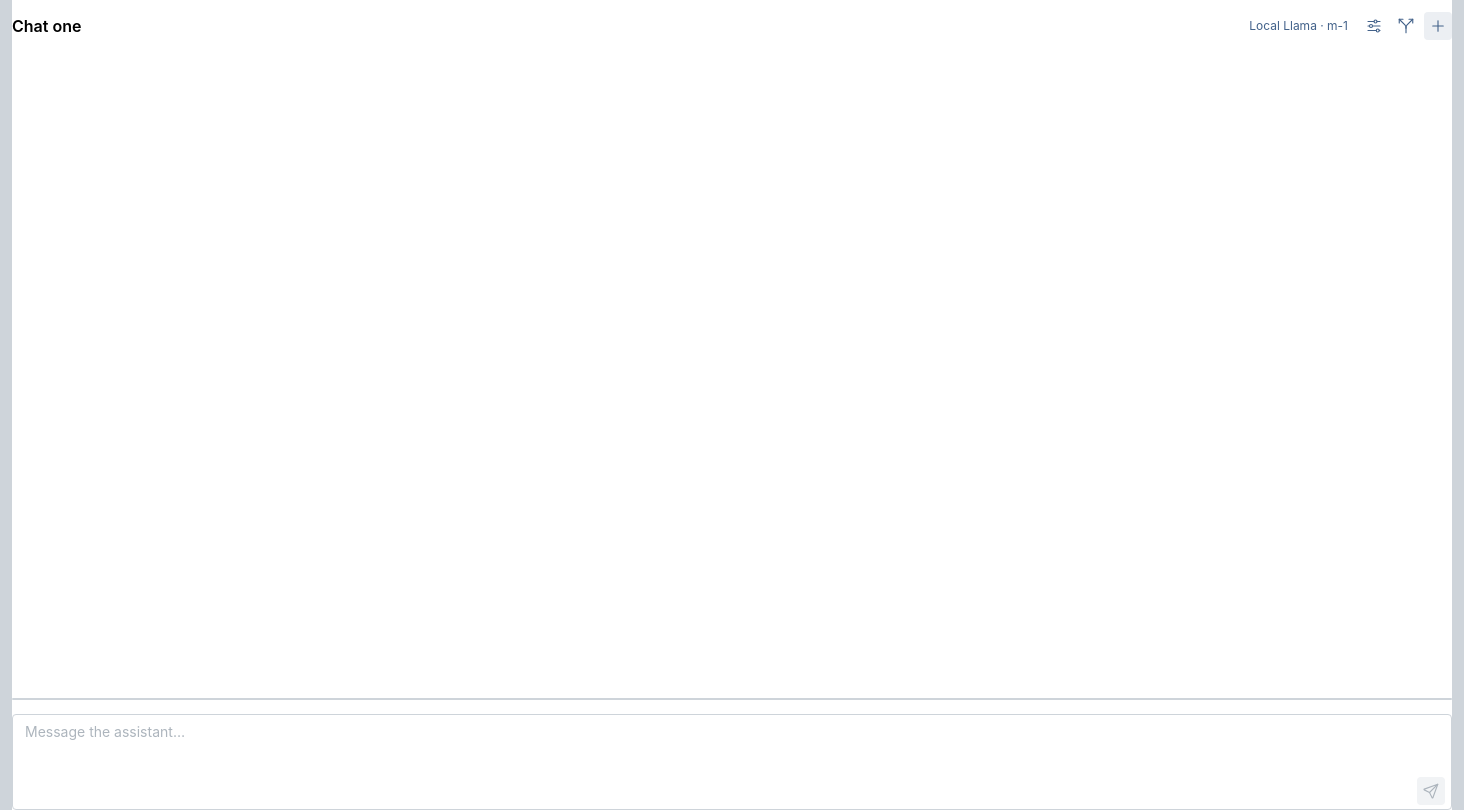
Test: a failed pick reverts the header and tells the author (009 DoD-7) › 009 DoD-7: when the update rejects, the header label reverts to the stored pair and an author-facing message is rendered with the dropdown closed
Click the button with aria-label "Model".
click(1299, 26)  # box [1241, 15, 1356, 37]
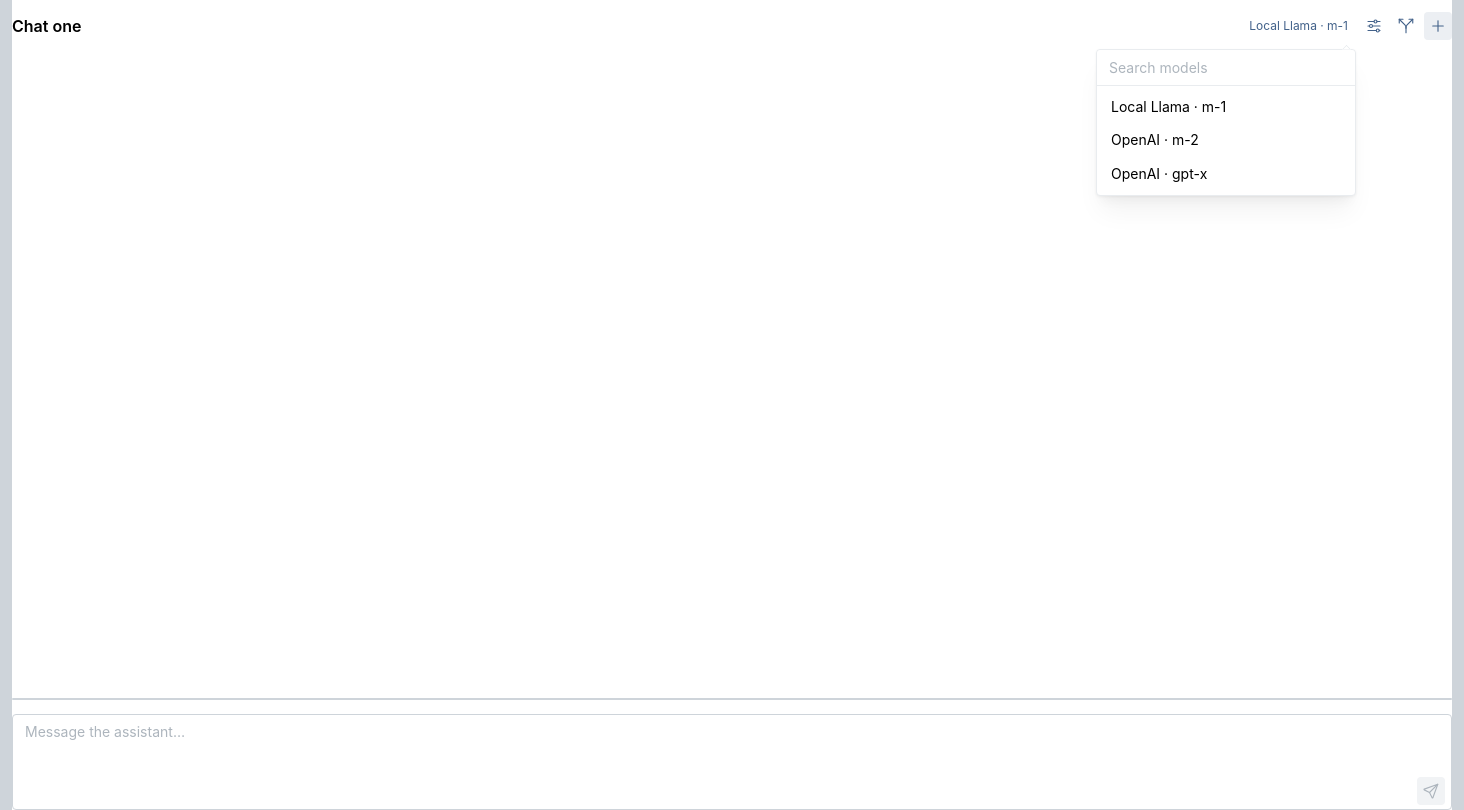
Click the option "OpenAI · m-2".
click(1155, 140)  # box [1111, 131, 1199, 148]
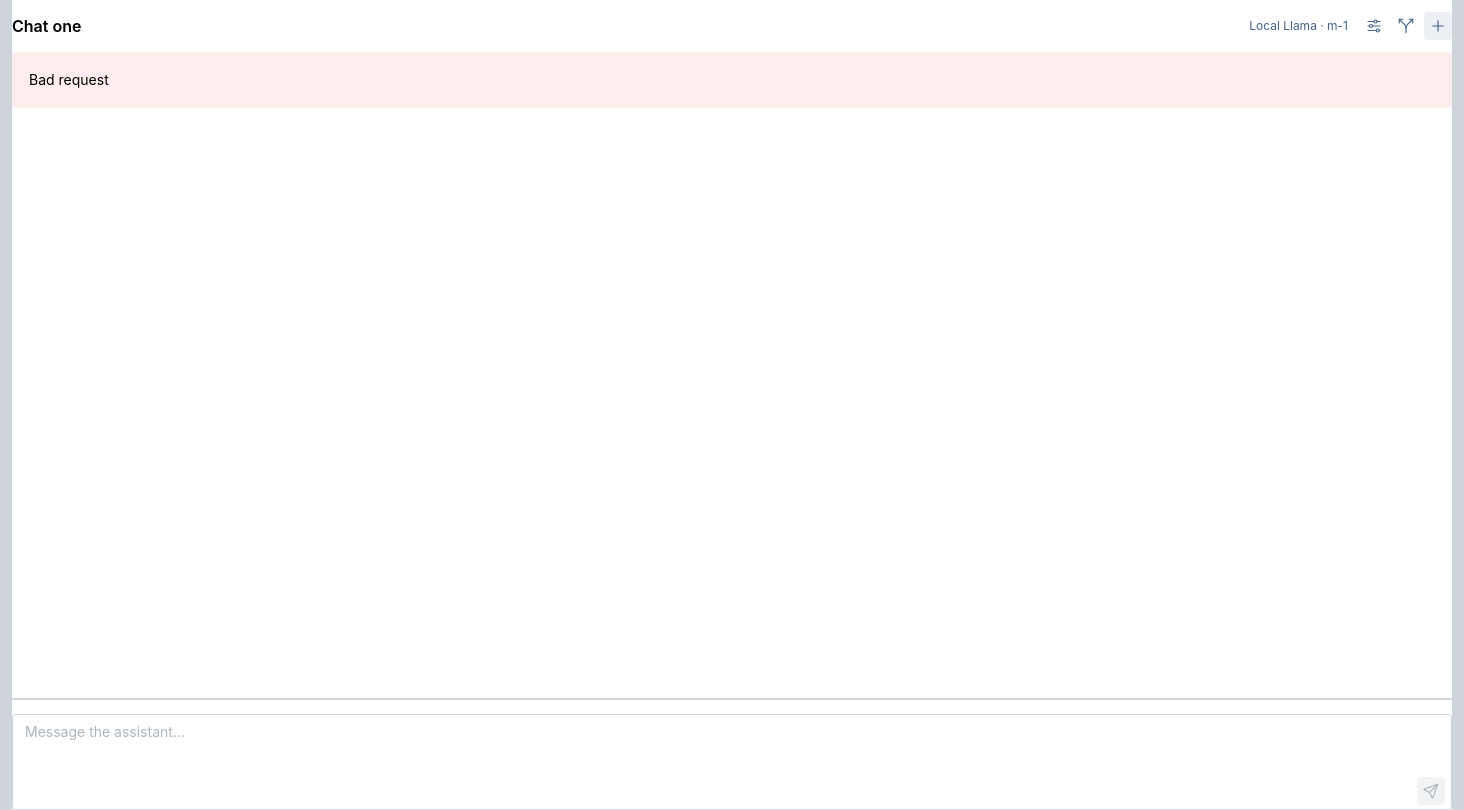
Now the text "Bad request" is shown, box [29, 71, 109, 88]
